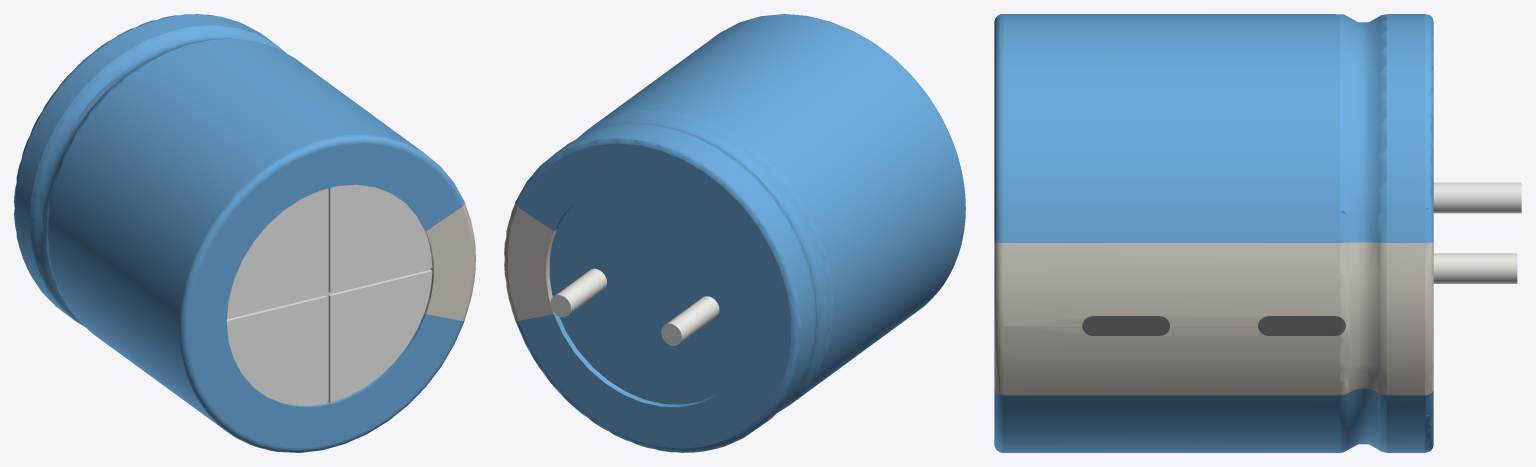
File: CP_Radial_D10.0mm_P3.80mm.glb
3 renders of one model, left to right at view 1: azimuth 30°, elevation 25°; view 2: azimuth 150°, elevation 25°; view 3: azimuth 270°, elevation 25°, orthographic. The views are drawn at different scales.
Visible parts, largest first — view 1: Shape_IndexedFaceSet.019, Shape_IndexedFaceSet.026, Shape_IndexedFaceSet.030, Shape_IndexedFaceSet.036, Shape_IndexedFaceSet.032, Shape_IndexedFaceSet.039, Shape_IndexedFaceSet.011, Shape_IndexedFaceSet.022, Shape_IndexedFaceSet.015, Shape_IndexedFaceSet.027, Shape_IndexedFaceSet.013, Shape_IndexedFaceSet.033 (+4 smaller); view 2: Shape_IndexedFaceSet.019, Shape_IndexedFaceSet.002, Shape_IndexedFaceSet.006, Shape_IndexedFaceSet.011, Shape_IndexedFaceSet.009, Shape_IndexedFaceSet.015, Shape_IndexedFaceSet.007, Shape_IndexedFaceSet.017, Shape_IndexedFaceSet.005, Shape_IndexedFaceSet.001, Shape_IndexedFaceSet.003, Shape_IndexedFaceSet.013 (+2 smaller); view 3: Shape_IndexedFaceSet.019, Shape_IndexedFaceSet.020, Shape_IndexedFaceSet.011, Shape_IndexedFaceSet.015, Shape_IndexedFaceSet.012, Shape_IndexedFaceSet.016, Shape_IndexedFaceSet.022, Shape_IndexedFaceSet.005, Shape_IndexedFaceSet.001, Shape_IndexedFaceSet.017, Shape_IndexedFaceSet.013, Shape_IndexedFaceSet.009 (+6 smaller).
Boxes of the visible parts, x1=… form: Shape_IndexedFaceSet.019: x1=48, y1=38, x2=423, y2=425; Shape_IndexedFaceSet.026: x1=188, y1=143, x2=461, y2=448; Shape_IndexedFaceSet.030: x1=330, y1=271, x2=432, y2=402; Shape_IndexedFaceSet.036: x1=226, y1=297, x2=327, y2=405; Shape_IndexedFaceSet.032: x1=330, y1=184, x2=432, y2=292; Shape_IndexedFaceSet.039: x1=227, y1=189, x2=327, y2=317; Shape_IndexedFaceSet.011: x1=15, y1=14, x2=274, y2=318; Shape_IndexedFaceSet.022: x1=179, y1=134, x2=464, y2=452; Shape_IndexedFaceSet.015: x1=35, y1=30, x2=272, y2=317; Shape_IndexedFaceSet.027: x1=426, y1=207, x2=471, y2=320; Shape_IndexedFaceSet.013: x1=29, y1=25, x2=285, y2=327; Shape_IndexedFaceSet.033: x1=227, y1=188, x2=430, y2=401; Shape_IndexedFaceSet.019: x1=589, y1=14, x2=964, y2=404; Shape_IndexedFaceSet.002: x1=549, y1=185, x2=752, y2=404; Shape_IndexedFaceSet.006: x1=518, y1=143, x2=790, y2=448; Shape_IndexedFaceSet.011: x1=556, y1=124, x2=815, y2=426; Shape_IndexedFaceSet.009: x1=515, y1=134, x2=800, y2=452; Shape_IndexedFaceSet.015: x1=591, y1=116, x2=827, y2=401; Shape_IndexedFaceSet.007: x1=508, y1=207, x2=553, y2=320; Shape_IndexedFaceSet.017: x1=577, y1=110, x2=833, y2=412; Shape_IndexedFaceSet.005: x1=666, y1=296, x2=719, y2=342; Shape_IndexedFaceSet.001: x1=555, y1=268, x2=606, y2=314; Shape_IndexedFaceSet.003: x1=554, y1=201, x2=714, y2=407; Shape_IndexedFaceSet.013: x1=598, y1=123, x2=816, y2=412; Shape_IndexedFaceSet.019: x1=1003, y1=14, x2=1339, y2=452; Shape_IndexedFaceSet.020: x1=1003, y1=243, x2=1339, y2=395; Shape_IndexedFaceSet.011: x1=1387, y1=14, x2=1424, y2=452; Shape_IndexedFaceSet.015: x1=1349, y1=17, x2=1377, y2=449; Shape_IndexedFaceSet.012: x1=1387, y1=243, x2=1424, y2=395; Shape_IndexedFaceSet.016: x1=1349, y1=242, x2=1377, y2=392; Shape_IndexedFaceSet.022: x1=994, y1=14, x2=1003, y2=452; Shape_IndexedFaceSet.005: x1=1433, y1=182, x2=1521, y2=213; Shape_IndexedFaceSet.001: x1=1433, y1=253, x2=1517, y2=283; Shape_IndexedFaceSet.017: x1=1340, y1=14, x2=1348, y2=452; Shape_IndexedFaceSet.013: x1=1378, y1=14, x2=1386, y2=452; Shape_IndexedFaceSet.009: x1=1425, y1=14, x2=1433, y2=452.
Bounding box in the file's own units: 3.94 × 3.93 × 4.72.
